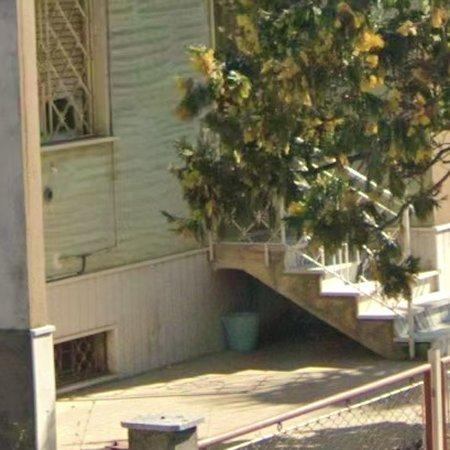stairs: (212, 242, 409, 360), (412, 224, 450, 356)
